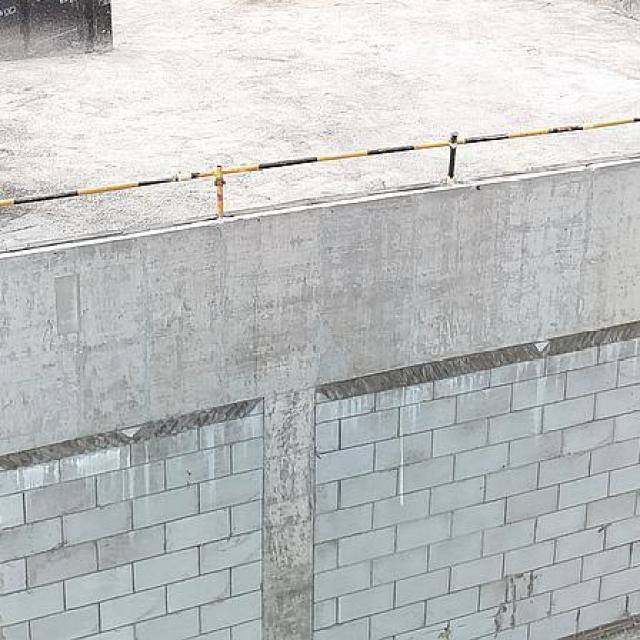edge_guardrail: (0, 117, 640, 219)
